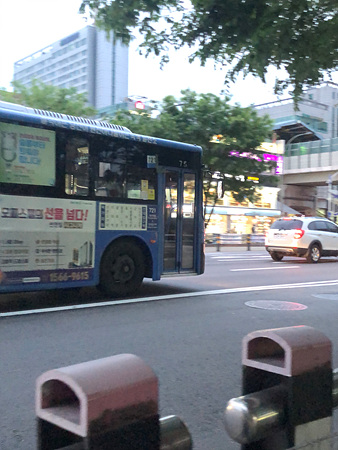entrance: (161, 163, 200, 275)
